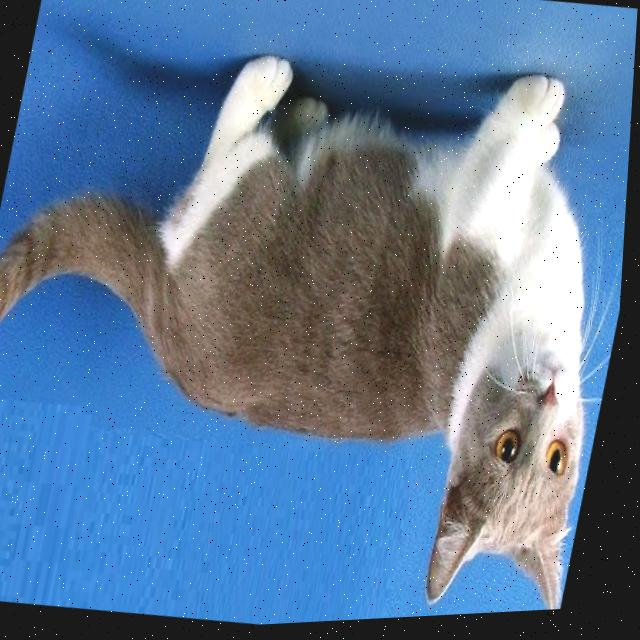Munchkin: (0, 1, 639, 640)
